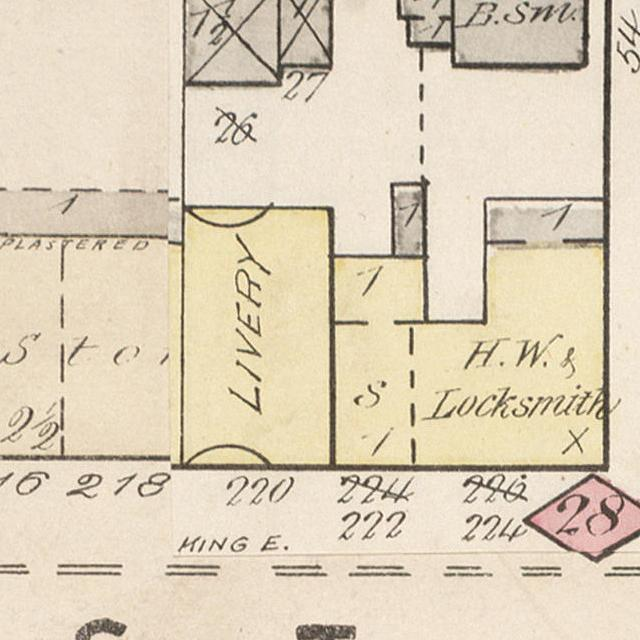building-footprints: (331, 198, 606, 468), (0, 235, 183, 458), (182, 207, 333, 467), (452, 0, 586, 65), (183, 0, 279, 84), (279, 0, 331, 66), (391, 183, 425, 256), (398, 0, 452, 45)
